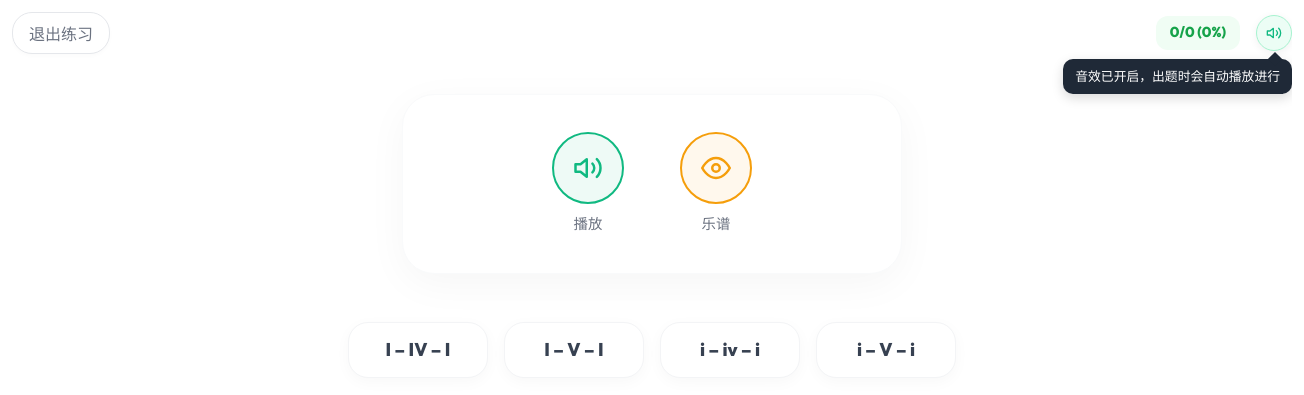
ProgressionPractice peek-at-answer (speaker-only mode) › reveals the notation when 乐谱 is clicked, and hides it again via 隐藏乐谱
The image size is (1304, 395).
Expected: the element with test id "progression-speaker" is shown, [552,132,752,233]
Step 1. Click the button named "查看乐谱" → [716, 168], box [680,132,752,204]
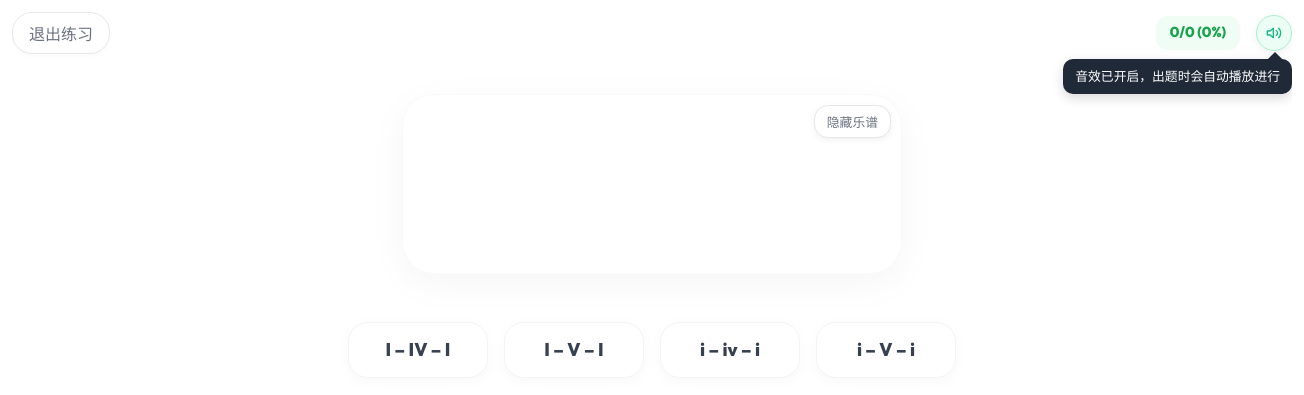
Expected: the element with test id "progression-speaker" is gone
Step 2. Click the button with aria-label "隐藏乐谱，返回听音练习" → [852, 122], box [814,105,891,138]
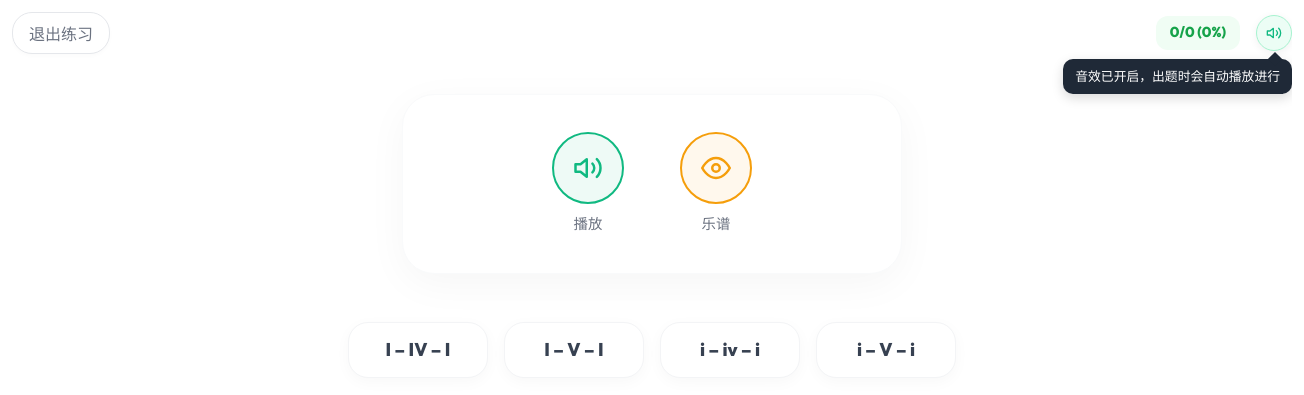
Expected: the element with test id "progression-speaker" is shown, [552,132,752,233]
